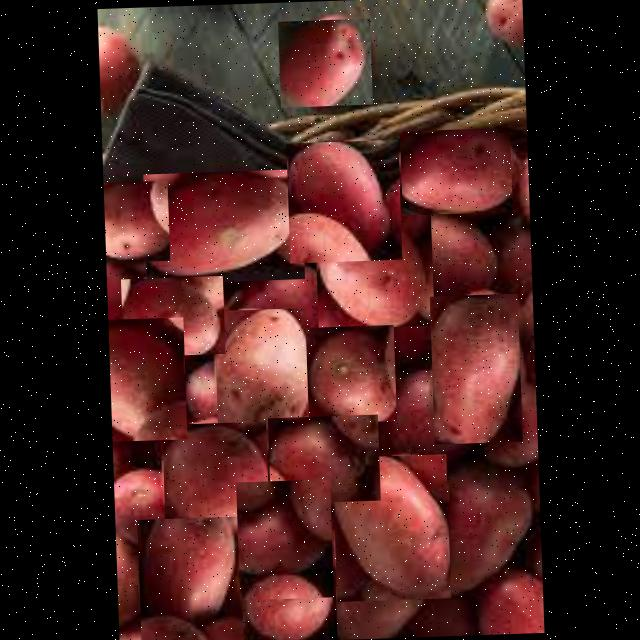Defected potato: (143, 168, 304, 283), (332, 452, 451, 600), (404, 466, 536, 594), (314, 208, 434, 328), (286, 138, 402, 262), (162, 419, 270, 552), (214, 306, 312, 452), (430, 292, 522, 443), (137, 515, 243, 640), (235, 478, 334, 599), (268, 413, 380, 503), (107, 316, 187, 440), (400, 126, 512, 214), (396, 210, 506, 295), (306, 323, 396, 422), (120, 274, 225, 356), (278, 17, 372, 106), (241, 570, 337, 640), (112, 464, 177, 552), (103, 180, 170, 262)
